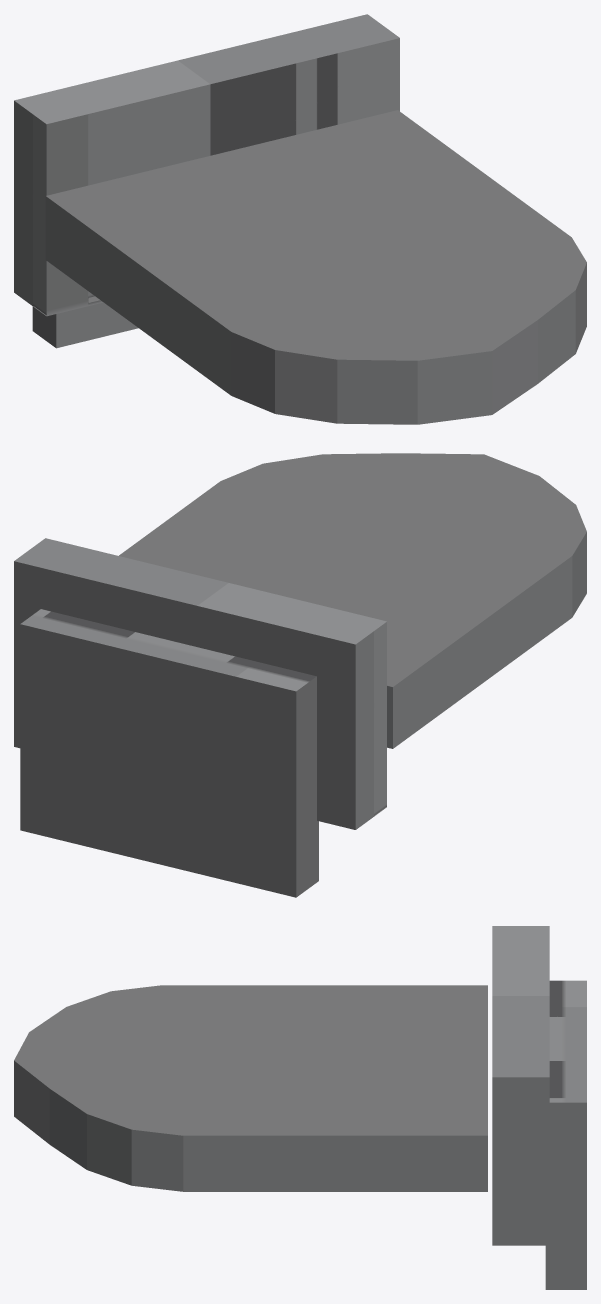
3 renders of one model, top to bottom at view 1: azimuth 30°, elevation 25°; view 2: azimuth 150°, elevation 25°; view 3: azimuth 270°, elevation 25°, orthographic. The views are drawn at different scales.
Bounding box in the file's own units: 0.525 × 0.36 × 0.833.
